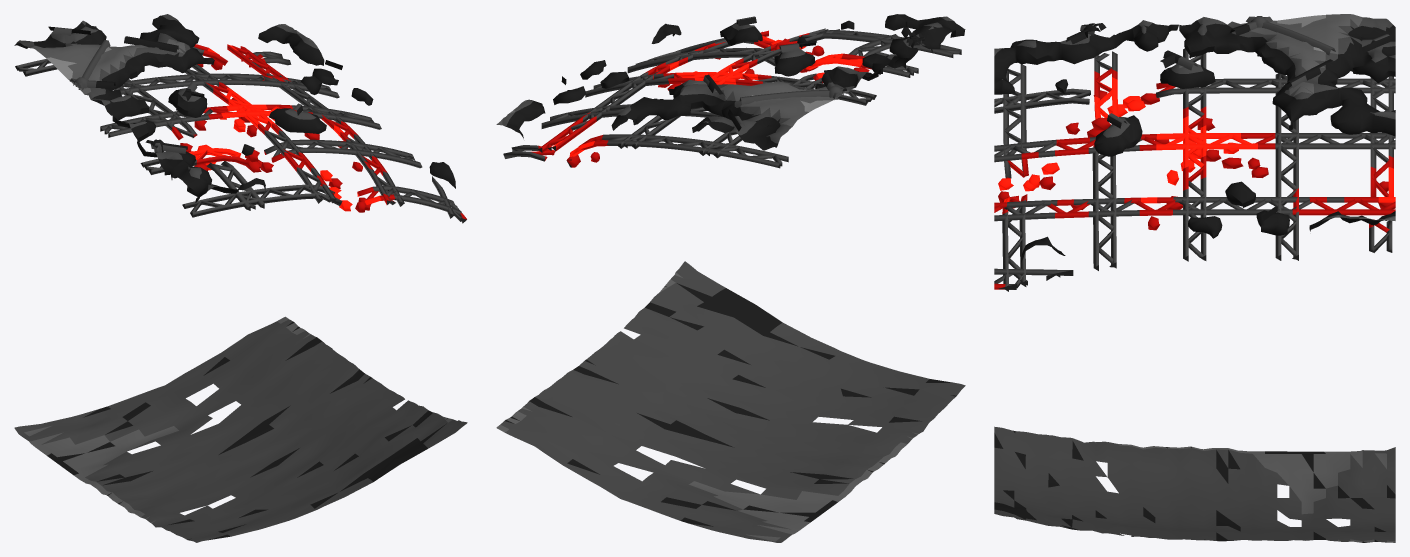
File: zeppelin_127.glb
3 renders of one model, left to right at view 1: azimuth 30°, elevation 25°; view 2: azimuth 150°, elevation 25°; view 3: azimuth 270°, elevation 25°, orthographic. The views are drawn at different scales.
Visible parts, largest first — view 1: envelope.001, framework.001, embers.001, net_ropes.001; view 2: envelope.001, framework.001, net_ropes.001, embers.001; view 3: envelope.001, framework.001, embers.001, net_ropes.001.
Boxes of the visible parts, bbox=[...] form: envelope.001: bbox=[14, 14, 467, 542]; framework.001: bbox=[15, 44, 466, 223]; embers.001: bbox=[180, 58, 371, 212]; net_ropes.001: bbox=[48, 26, 342, 153]; envelope.001: bbox=[496, 14, 965, 542]; framework.001: bbox=[503, 28, 961, 168]; net_ropes.001: bbox=[561, 16, 924, 131]; embers.001: bbox=[566, 38, 869, 167]; envelope.001: bbox=[994, 14, 1395, 542]; framework.001: bbox=[994, 48, 1395, 291]; embers.001: bbox=[998, 90, 1395, 230]; net_ropes.001: bbox=[1066, 16, 1395, 220].
Bounding box in the file's own units: 24 × 33.9 × 28.
